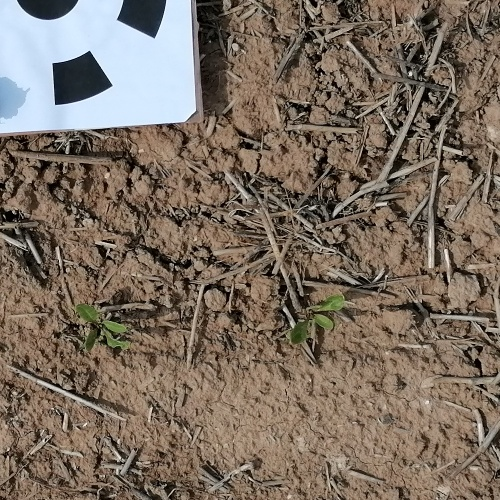beet: (288, 296, 346, 349), (73, 304, 130, 349)
